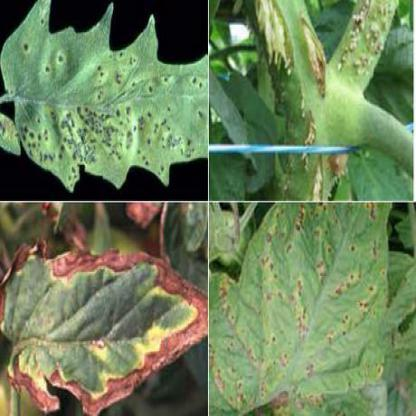Tomato leaf late blight: (8, 216, 204, 408), (218, 209, 392, 414), (4, 13, 207, 188)
